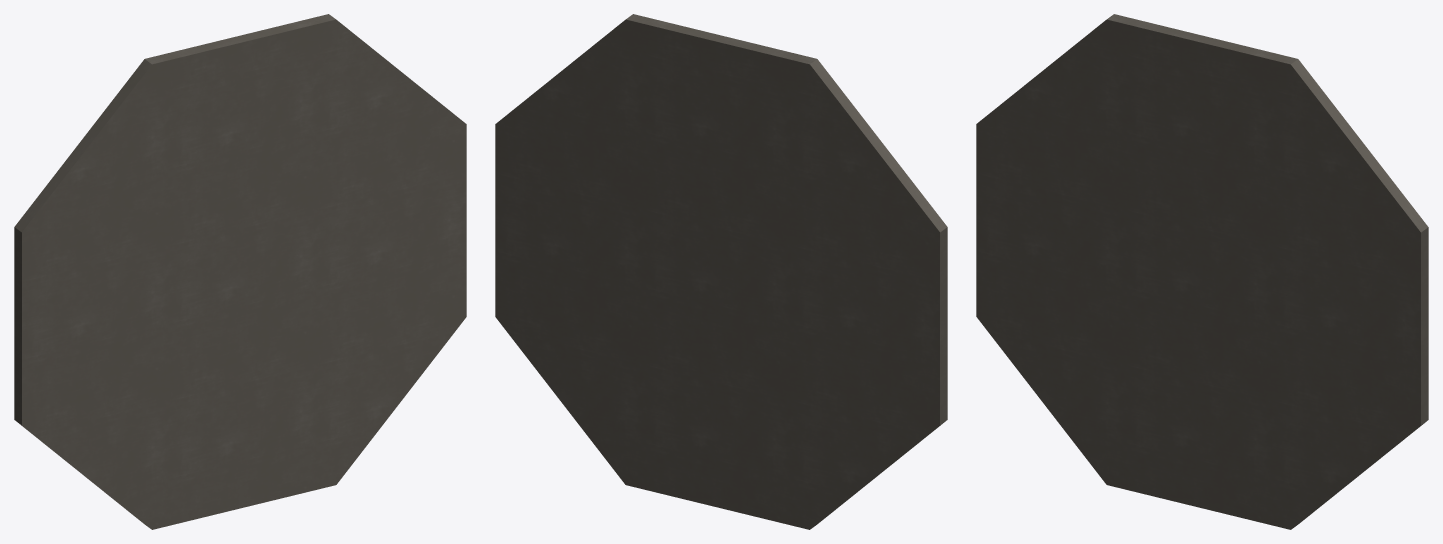
File: module-stagger-02.glb
The picture shows the model from 3 angles, left to right: view 1: azimuth 30°, elevation 25°; view 2: azimuth 150°, elevation 25°; view 3: azimuth 330°, elevation 25°; orthographic projection.
Visible parts, largest first — view 1: Mesh_0.003; view 2: Mesh_0.003; view 3: Mesh_0.003.
Boxes of the visible parts, x1=… form: Mesh_0.003: x1=14, y1=14, x2=466, y2=529; Mesh_0.003: x1=495, y1=14, x2=947, y2=529; Mesh_0.003: x1=976, y1=14, x2=1428, y2=529.
Bounding box in the file's own units: 1.39 × 1.39 × 0.0405.
Materials: 1 (1 with a texture image).
